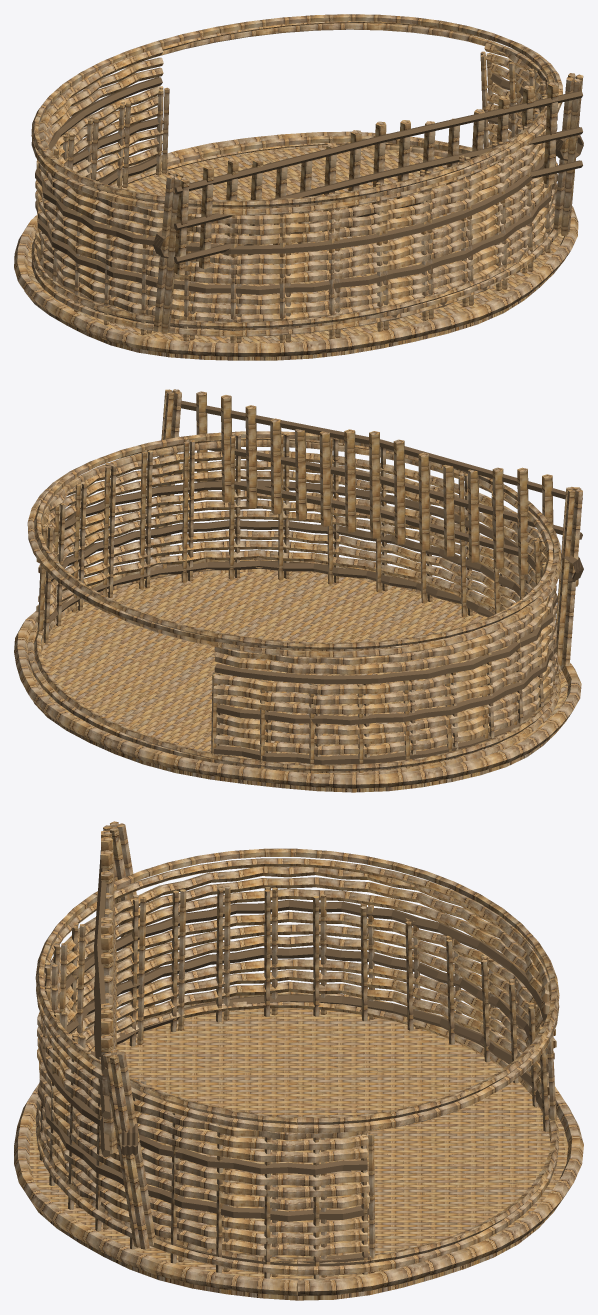
Rendered from reed-store.glb.
3 views of the same model, one above another, from view 1: azimuth 30°, elevation 25°; view 2: azimuth 150°, elevation 25°; view 3: azimuth 270°, elevation 25° (orthographic). The views are drawn at different scales.
Visible parts, largest first — view 1: store-container-finish, store-base-bindings, store-frame; view 2: store-container-finish, store-base-bindings, store-frame; view 3: store-container-finish, store-base-bindings, store-frame.
Part boxes in pixels (x1,y1,x2,y2): store-container-finish: (31, 14, 582, 336); store-base-bindings: (14, 131, 578, 360); store-frame: (40, 51, 583, 343); store-container-finish: (27, 391, 582, 775); store-base-bindings: (14, 568, 581, 792); store-frame: (37, 389, 583, 773); store-container-finish: (35, 830, 559, 1275); store-base-bindings: (14, 1008, 583, 1300); store-frame: (39, 821, 556, 1279).
Size of the model in its own units: 1.76 by 0.6304 by 1.46.
Materials: 3 (2 with a texture image).
